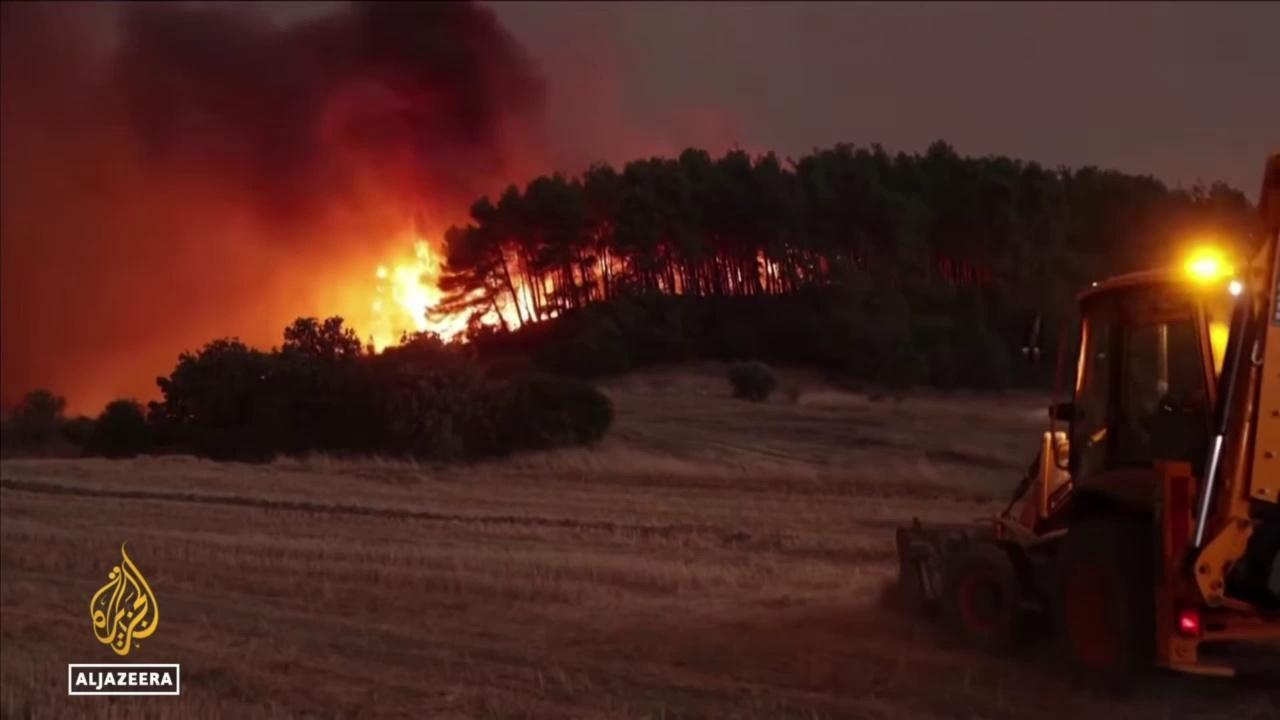fire: (365, 233, 834, 355)
smoke: (0, 0, 620, 427)
